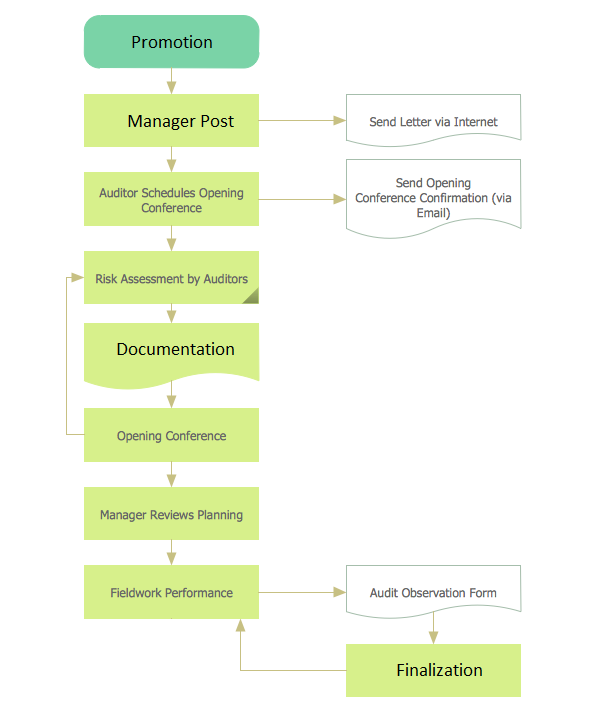arrow: (230, 620, 349, 677), (58, 269, 87, 440), (257, 111, 346, 130), (261, 189, 348, 207), (258, 584, 348, 600), (162, 540, 182, 563), (164, 65, 179, 94), (426, 612, 440, 643), (163, 462, 178, 489), (163, 224, 179, 249), (164, 143, 177, 172), (162, 382, 177, 407), (163, 305, 177, 323)
process: (341, 156, 527, 239), (78, 318, 263, 391), (79, 168, 265, 231), (80, 12, 264, 75), (79, 405, 262, 468), (80, 90, 264, 152), (80, 246, 263, 308), (79, 483, 264, 544), (342, 640, 524, 702), (80, 561, 264, 621), (340, 561, 524, 621), (342, 91, 524, 149)
text: (351, 171, 516, 221), (95, 182, 251, 216), (91, 269, 251, 290), (112, 338, 238, 361), (124, 109, 239, 134), (365, 110, 500, 131), (97, 506, 248, 524), (364, 580, 499, 600), (106, 583, 239, 603), (126, 30, 216, 53), (109, 427, 228, 444), (393, 658, 487, 679)
